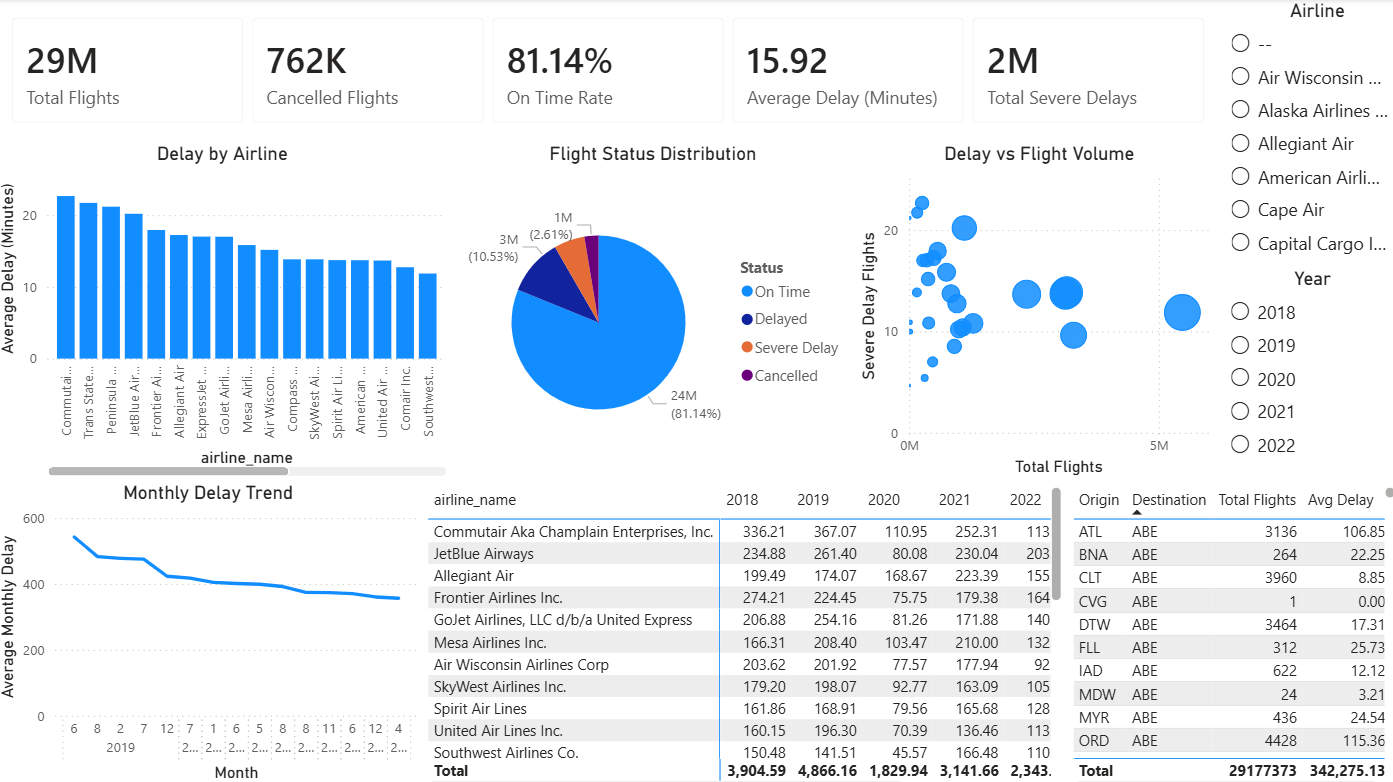

This screenshot's page, from the dashboard's own definition file:
{"tool":"powerbi","page":{"name":"Page 1","canvas":[1280,720],"ordinal":0},"visuals":[{"type":"cardVisual","fields":{"Data":["Sum(route_performance.total_flights)","Sum(route_performance.total_cancelled)","airline_performance.On Time Rate","Avg(route_performance.avg_dep_delay)","airline_performance.Total Severe Delays"]},"box":[0,0,1112.2,129.9],"z":0},{"type":"columnChart","title":"Delay by Airline","fields":{"Y":["Sum(airline_performance.avg_delay_minutes)"],"Category":["dim_airline.airline_name"]},"box":[0,129.9,414.4,306],"z":1000},{"type":"lineChart","title":"Monthly Delay Trend","fields":{"Category":["monthly_trend.Year","monthly_trend.Month"],"Y":["Sum(monthly_trend.avg_monthly_delay)"]},"box":[0,435.9,388.4,284.5],"z":2000},{"type":"tableEx","fields":{"Values":["route_performance.origin_airport","route_performance.dest_airport","Sum(route_performance.total_flights)","Sum(route_performance.avg_dep_delay)"]},"box":[969.9,435.9,310.5,284.5],"z":3000},{"type":"listSlicer","title":"Year","fields":{"Values":["monthly_trend.Year"]},"box":[1112.2,242.8,159.2,193.1],"z":5000},{"type":"pivotTable","fields":{"Columns":["monthly_trend.Year","monthly_trend.Month"],"Values":["Sum(monthly_trend.avg_monthly_delay)"],"Rows":["dim_airline.airline_name"]},"box":[388.4,435.9,581.5,284.5],"z":6000},{"type":"listSlicer","fields":{"Values":["dim_airline.airline_name"]},"box":[1112.2,0,168.2,242.8],"z":7000},{"type":"pieChart","title":"Flight Status Distribution","fields":{"Category":["Flight Status.Status"],"Y":["Flight Status.Flights by Status"]},"box":[414.4,129.9,363.6,306],"z":8000},{"type":"scatterChart","title":"Delay vs Flight Volume","fields":{"X":["airline_performance.total_flights"],"Y":["airline_performance.avg_delay_minutes"],"Size":["Sum(airline_performance.severe_delay_flights)"]},"box":[778,129.3,334.3,306],"z":9000}]}

Visuals, with their boxes in screenshot pixels (x1, y1, x2, y2), scaled from the page's 1280x720 canvas onto the 1393x782 screenshot:
cardVisual - Sum(route_performance.total_flights) x Sum(route_performance.total_cancelled): (x1=0, y1=0, x2=1210, y2=141)
"Delay by Airline" columnChart: (x1=0, y1=141, x2=451, y2=473)
"Monthly Delay Trend" lineChart: (x1=0, y1=473, x2=423, y2=781)
tableEx - route_performance.origin_airport x route_performance.dest_airport: (x1=1056, y1=473, x2=1392, y2=781)
"Year" listSlicer: (x1=1210, y1=264, x2=1384, y2=473)
pivotTable - monthly_trend.Year x monthly_trend.Month: (x1=423, y1=473, x2=1056, y2=781)
listSlicer - dim_airline.airline_name: (x1=1210, y1=0, x2=1392, y2=264)
"Flight Status Distribution" pieChart: (x1=451, y1=141, x2=847, y2=473)
"Delay vs Flight Volume" scatterChart: (x1=847, y1=140, x2=1210, y2=473)
